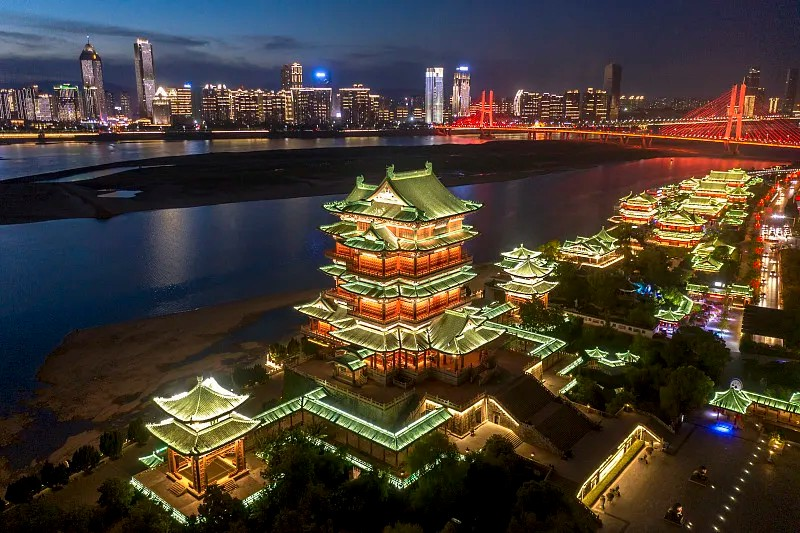Teng: (294, 162, 508, 382)
